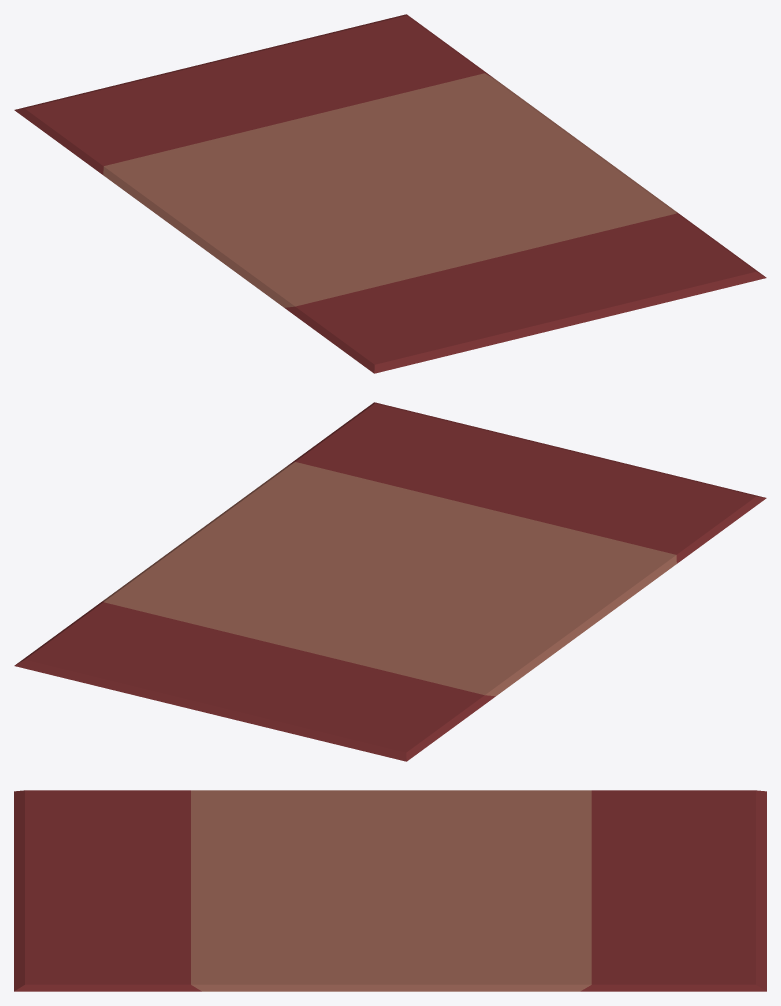
Rendered from Teppich W.fbx.
3 views of the same model, one above another, from view 1: azimuth 30°, elevation 25°; view 2: azimuth 150°, elevation 25°; view 3: azimuth 270°, elevation 25° (orthographic). The views are drawn at different scales.
Visible parts, largest first — view 1: Teppich W; view 2: Teppich W; view 3: Teppich W.
Boxes of the visible parts, <box> form: Teppich W: <box>14,14,766,373</box>; Teppich W: <box>14,402,766,761</box>; Teppich W: <box>14,790,766,991</box>.
Size of the model in its own units: 126 by 1.15 by 200.
